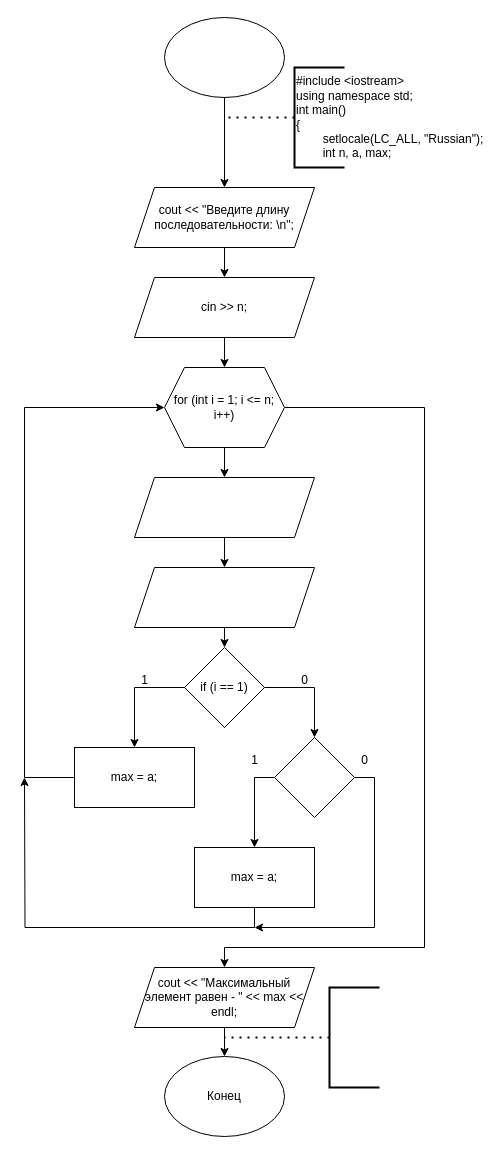
Image size: 501x1154. Some labels were removed from this diagram. The box of each missing label's shape, as (x1, y1, x2, y2) in pixels:
cin >> a;: (134, 566, 314, 628)
cout << "Введите следующее число : \n";: (134, 476, 314, 538)
if (a > max): (274, 736, 354, 818)
return 0; }: (328, 986, 380, 1088)
Начало: (164, 16, 284, 98)
